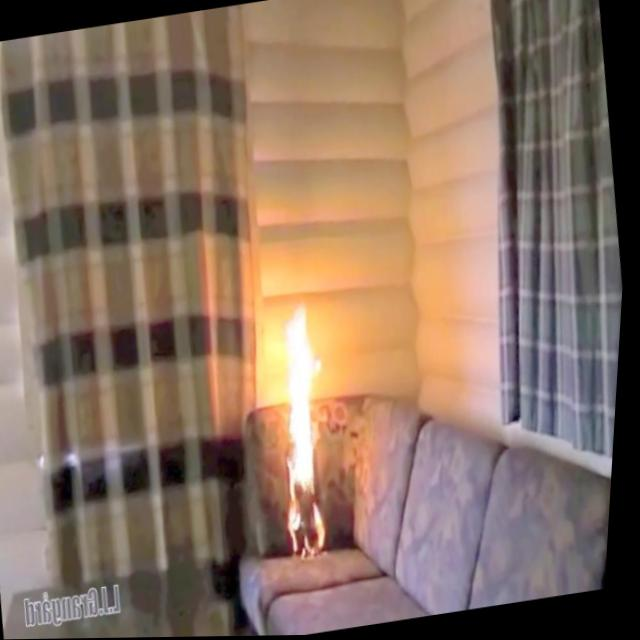fire: (257, 292, 364, 566)
